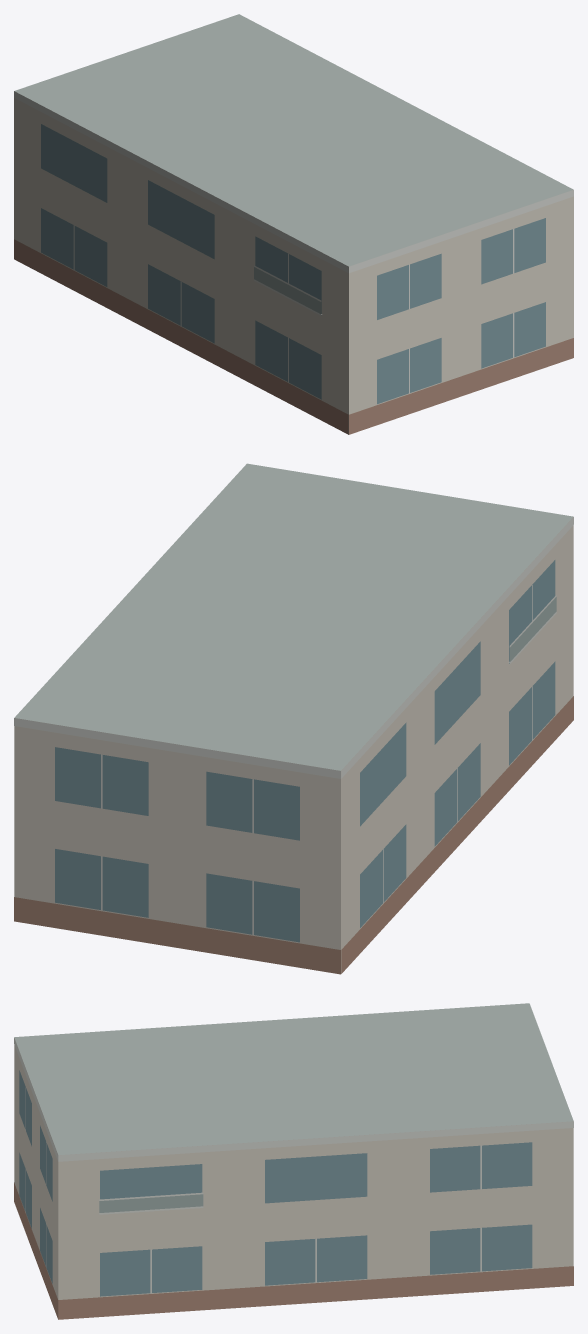
The model's file is survey-upis-32912858.glb.
3 views of the same model, one above another, from view 1: azimuth 30°, elevation 25°; view 2: azimuth 150°, elevation 25°; view 3: azimuth 270°, elevation 25° (orthographic). The views are drawn at different scales.
Visible parts, largest first — view 1: survey-upis-32912858.tmp; view 2: survey-upis-32912858.tmp; view 3: survey-upis-32912858.tmp.
Boxes of the visible parts, <box> form: survey-upis-32912858.tmp: <box>14,14,573,434</box>; survey-upis-32912858.tmp: <box>14,463,573,974</box>; survey-upis-32912858.tmp: <box>14,1003,573,1319</box>.
Size of the model in its own units: 12.11 by 6.1 by 18.82.
